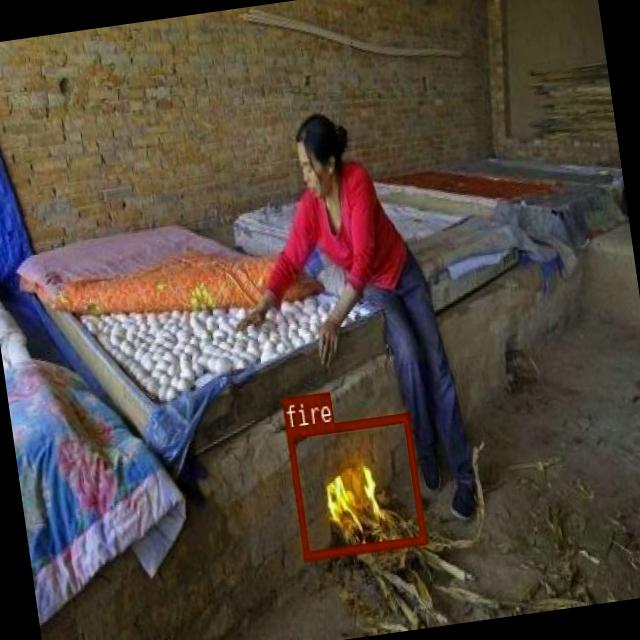fire: (285, 412, 426, 560)
